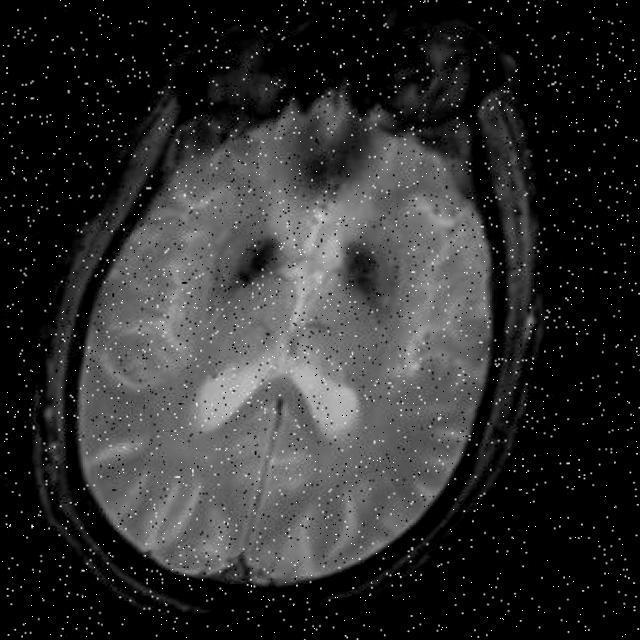LMCI: (283, 118, 392, 208)
